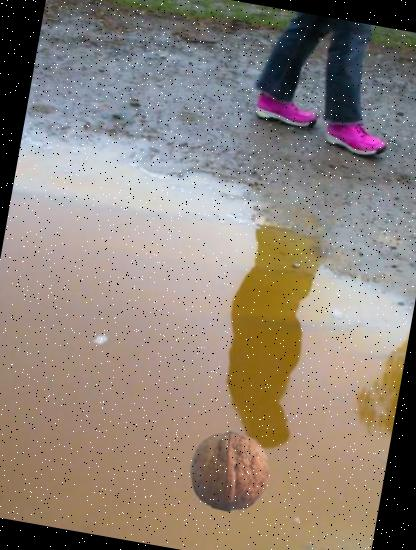Walnut: (183, 424, 277, 518)
